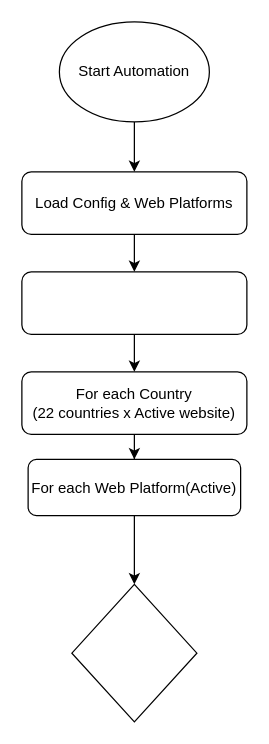
Some shapes in this 269 by 744 pixel diagram are drawn without their labels. The shapes that lost their labels are listed below. From the top down, each one's centre as x and y in pixels, then its label:
At [134,302]: "Launch Chrome (Selenium)".
At [134,652]: "Is Web Platform Type?".
